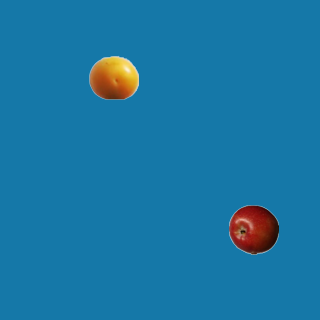Apple Braeburn: (228, 204, 278, 254)
Cherry Wax Yellow: (88, 52, 138, 102)
